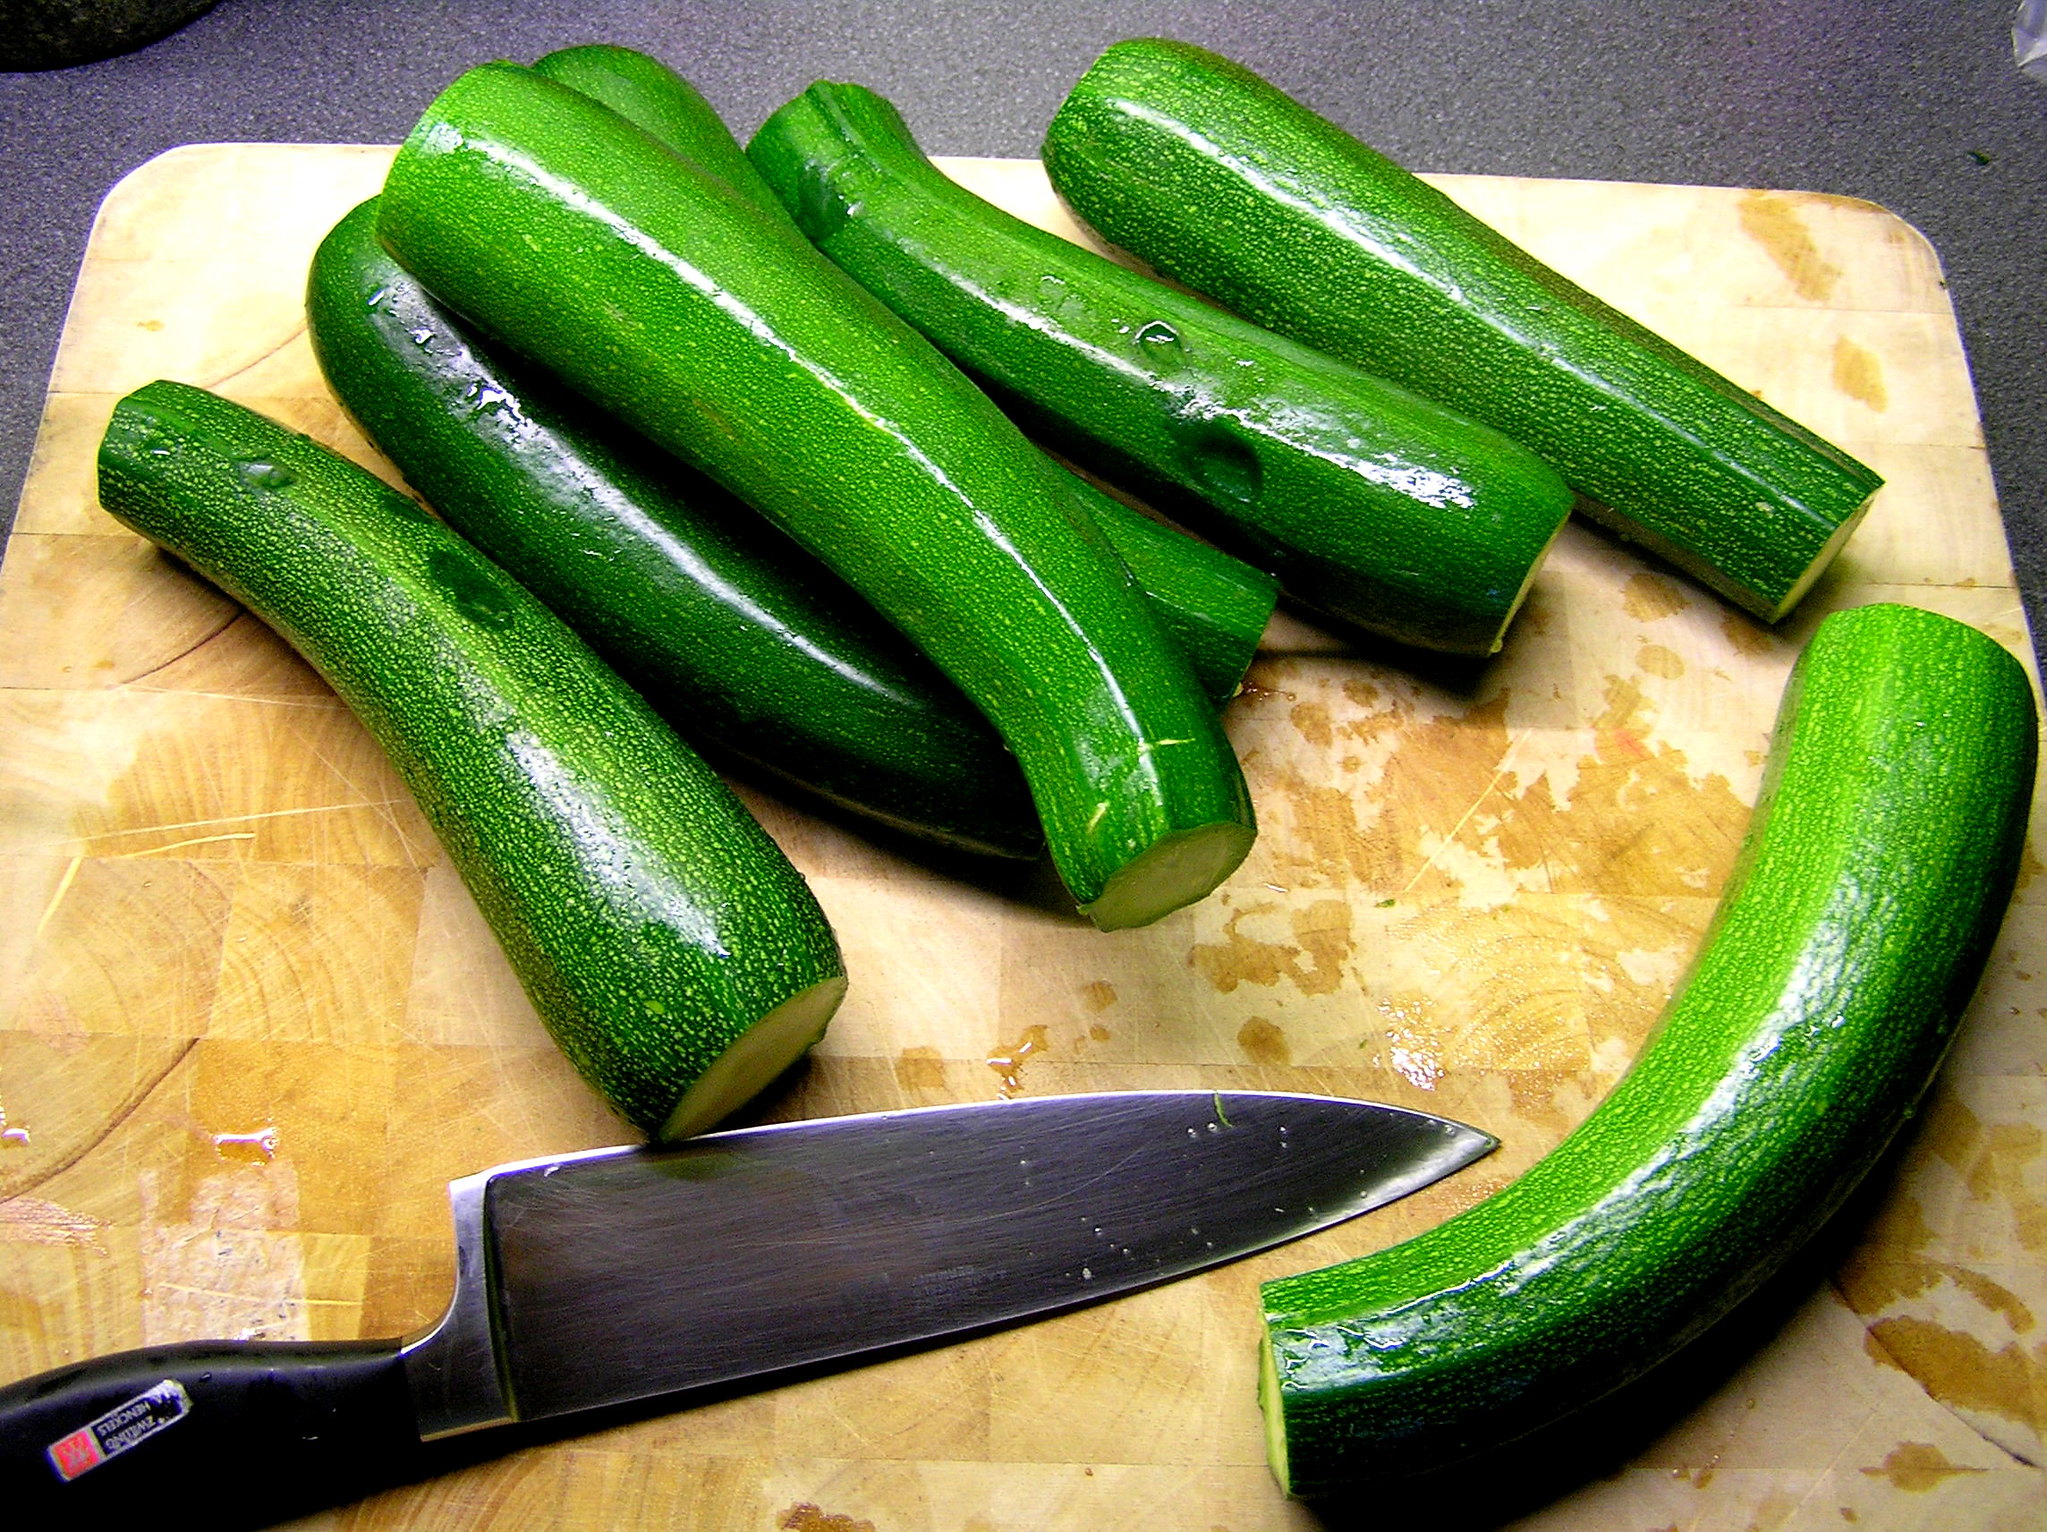knife: (2, 1077, 1508, 1532)
